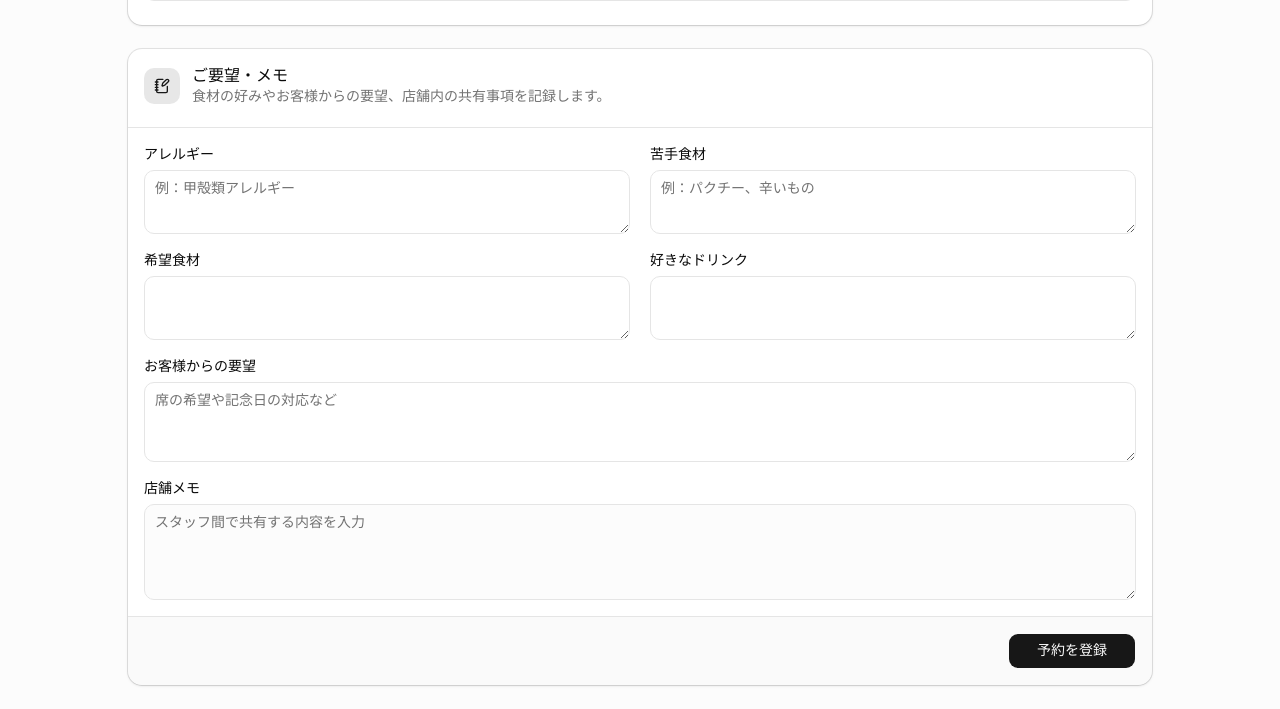
NewReservationFormContainer › 同一顧客の予約重複エラーが発生すると、専用ダイアログを表示する
(page scrolled)
Click the button "予約を登録" at x=1072, y=651, box [1008,633,1136,669]
(page scrolled)
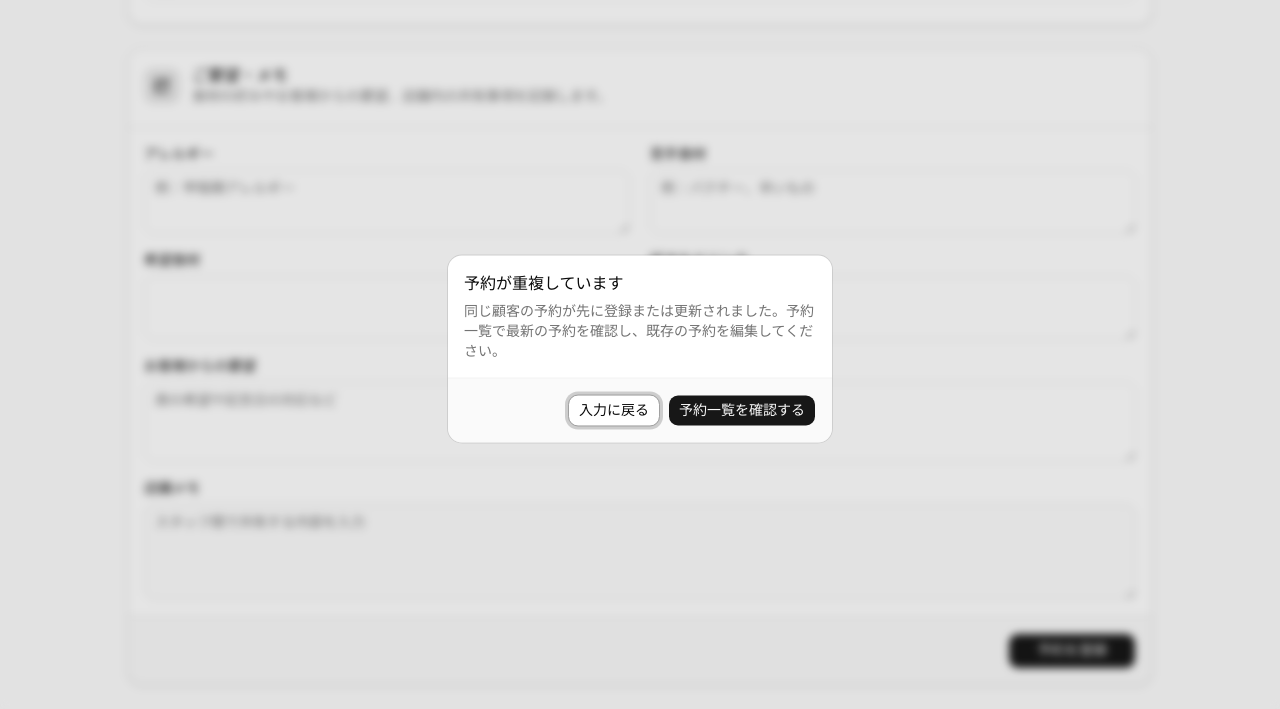
Result: the heading "予約が重複しています" is shown at [464,272,624,296]
Result: the text "同じ顧客の予約が先に登録または更新されました。予約一覧で最新の予約を確認し、既存の予約を編集してください。" is shown at [464,302,816,362]
Result: the button "入力に戻る" is shown at [568,394,660,426]
